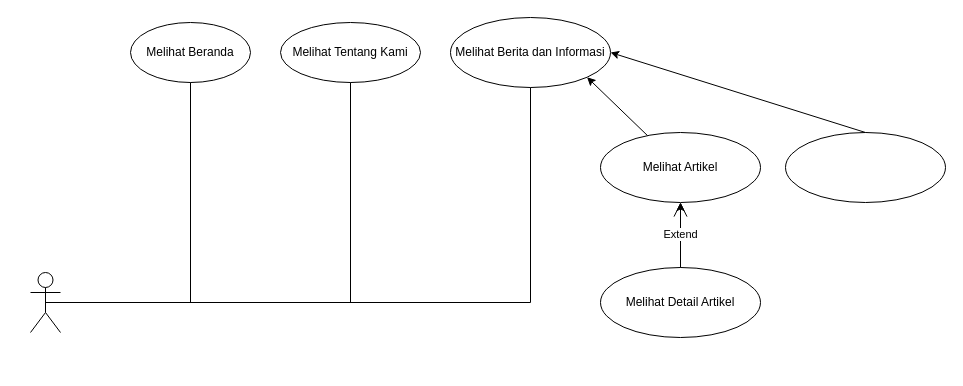
The diagram is 963 pixels wide and 386 high, and some of its shapes have lost their labels. The centre of each missing label's shape, as x and y in pixels:
Mas Rusdi: the point at 45,302
Melihat Tutorial: the point at 865,167
